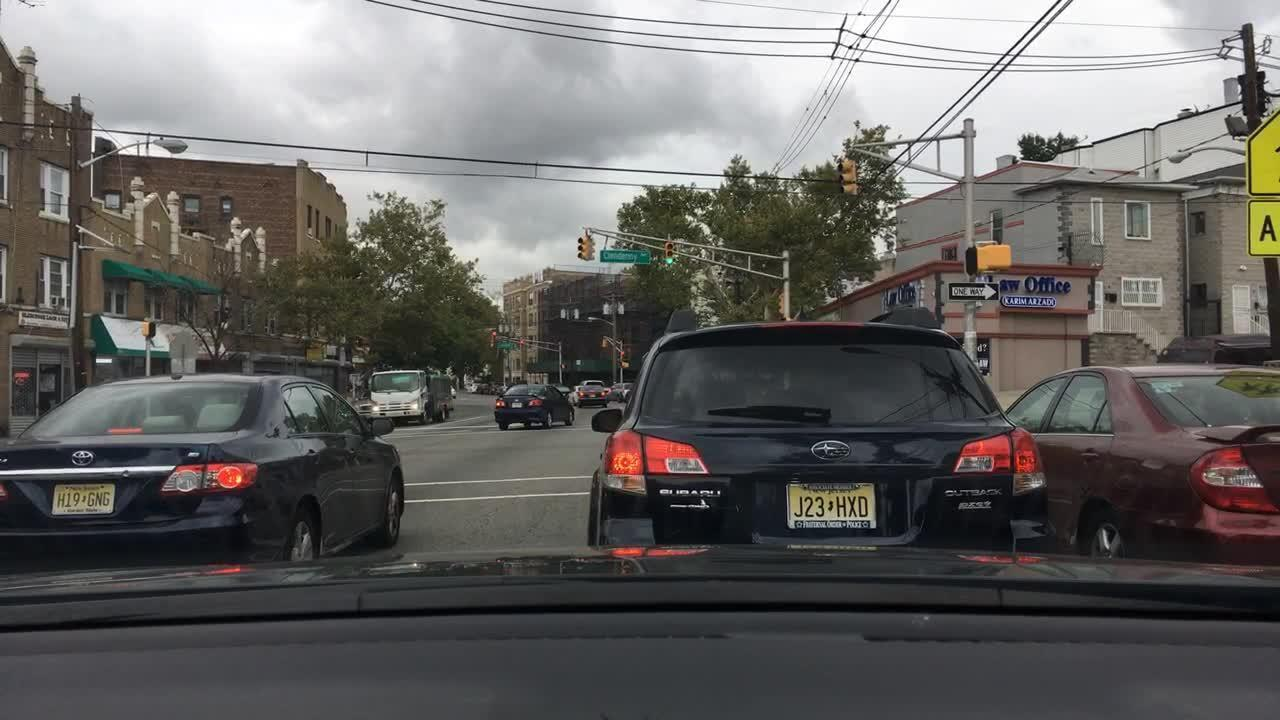Toyota: (66, 446, 99, 470)
subaru: (810, 437, 851, 464)
